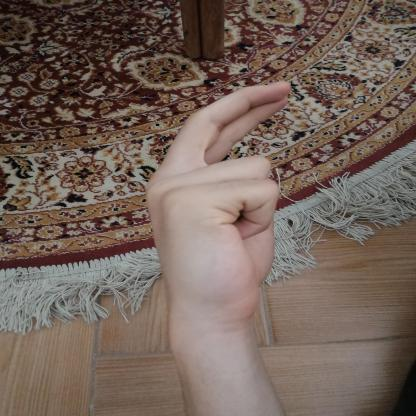ZAY: (135, 71, 307, 337)
